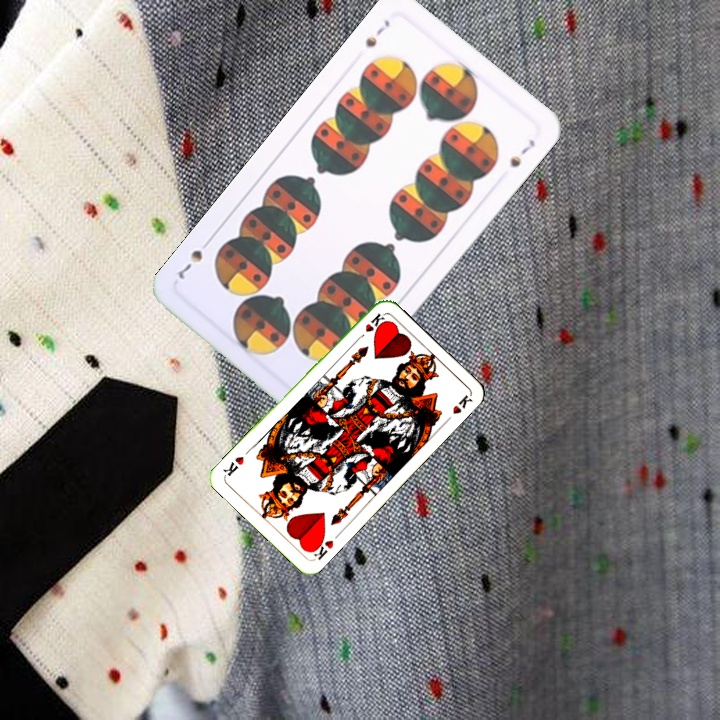HK: (353, 309, 387, 343), (306, 533, 336, 563)
S7: (361, 16, 393, 50)
